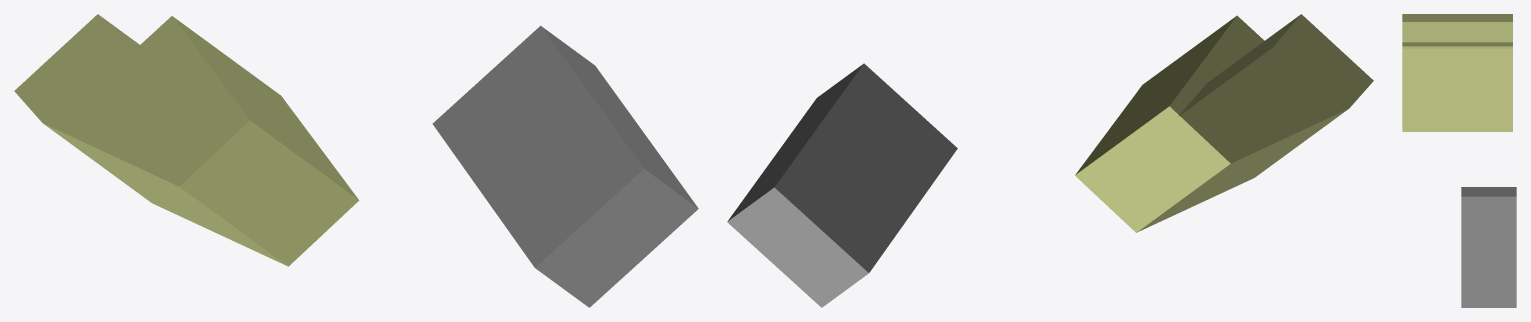
The picture shows the model from 3 angles, left to right: view 1: azimuth 30°, elevation 25°; view 2: azimuth 150°, elevation 25°; view 3: azimuth 270°, elevation 25°; orthographic projection. The views are drawn at different scales.
Visible parts, largest first — view 1: 0_1_2_0_0_1_2_2_3_1; view 2: 0_1_2_0_0_1_2_2_3_1; view 3: 0_1_2_0_0_1_2_2_3_1.
Part boxes in pixels (bbox=[...]): 0_1_2_0_0_1_2_2_3_1: bbox=[14, 14, 698, 307]; 0_1_2_0_0_1_2_2_3_1: bbox=[727, 14, 1373, 307]; 0_1_2_0_0_1_2_2_3_1: bbox=[1402, 14, 1516, 307].
Bounding box in the file's own units: 20.08 × 11.03 × 6.2.
